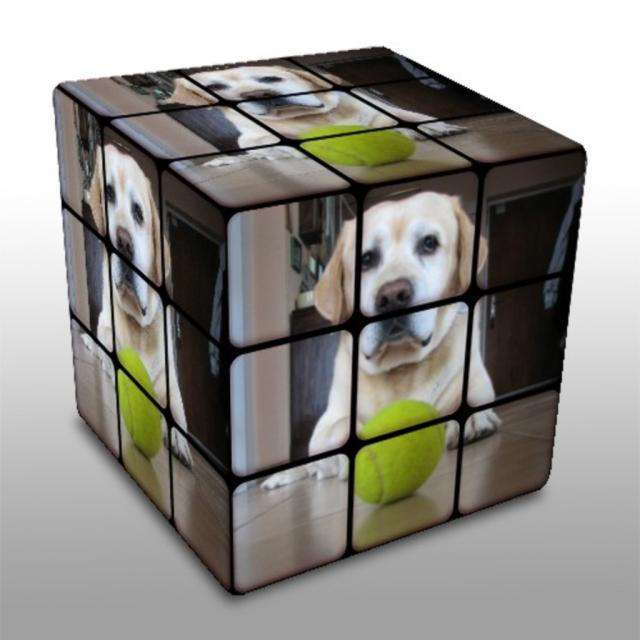Tennis ball: (347, 402, 462, 529), (109, 358, 162, 458), (298, 122, 414, 166)
